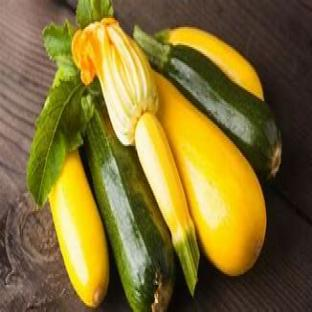Zucchini: (134, 28, 281, 178), (85, 107, 175, 311), (49, 152, 109, 308), (156, 28, 264, 99)
